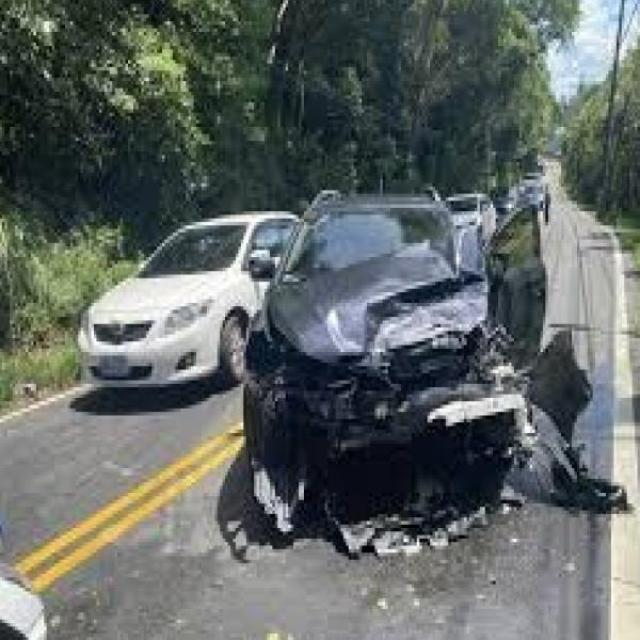accident: (247, 243, 628, 572)
